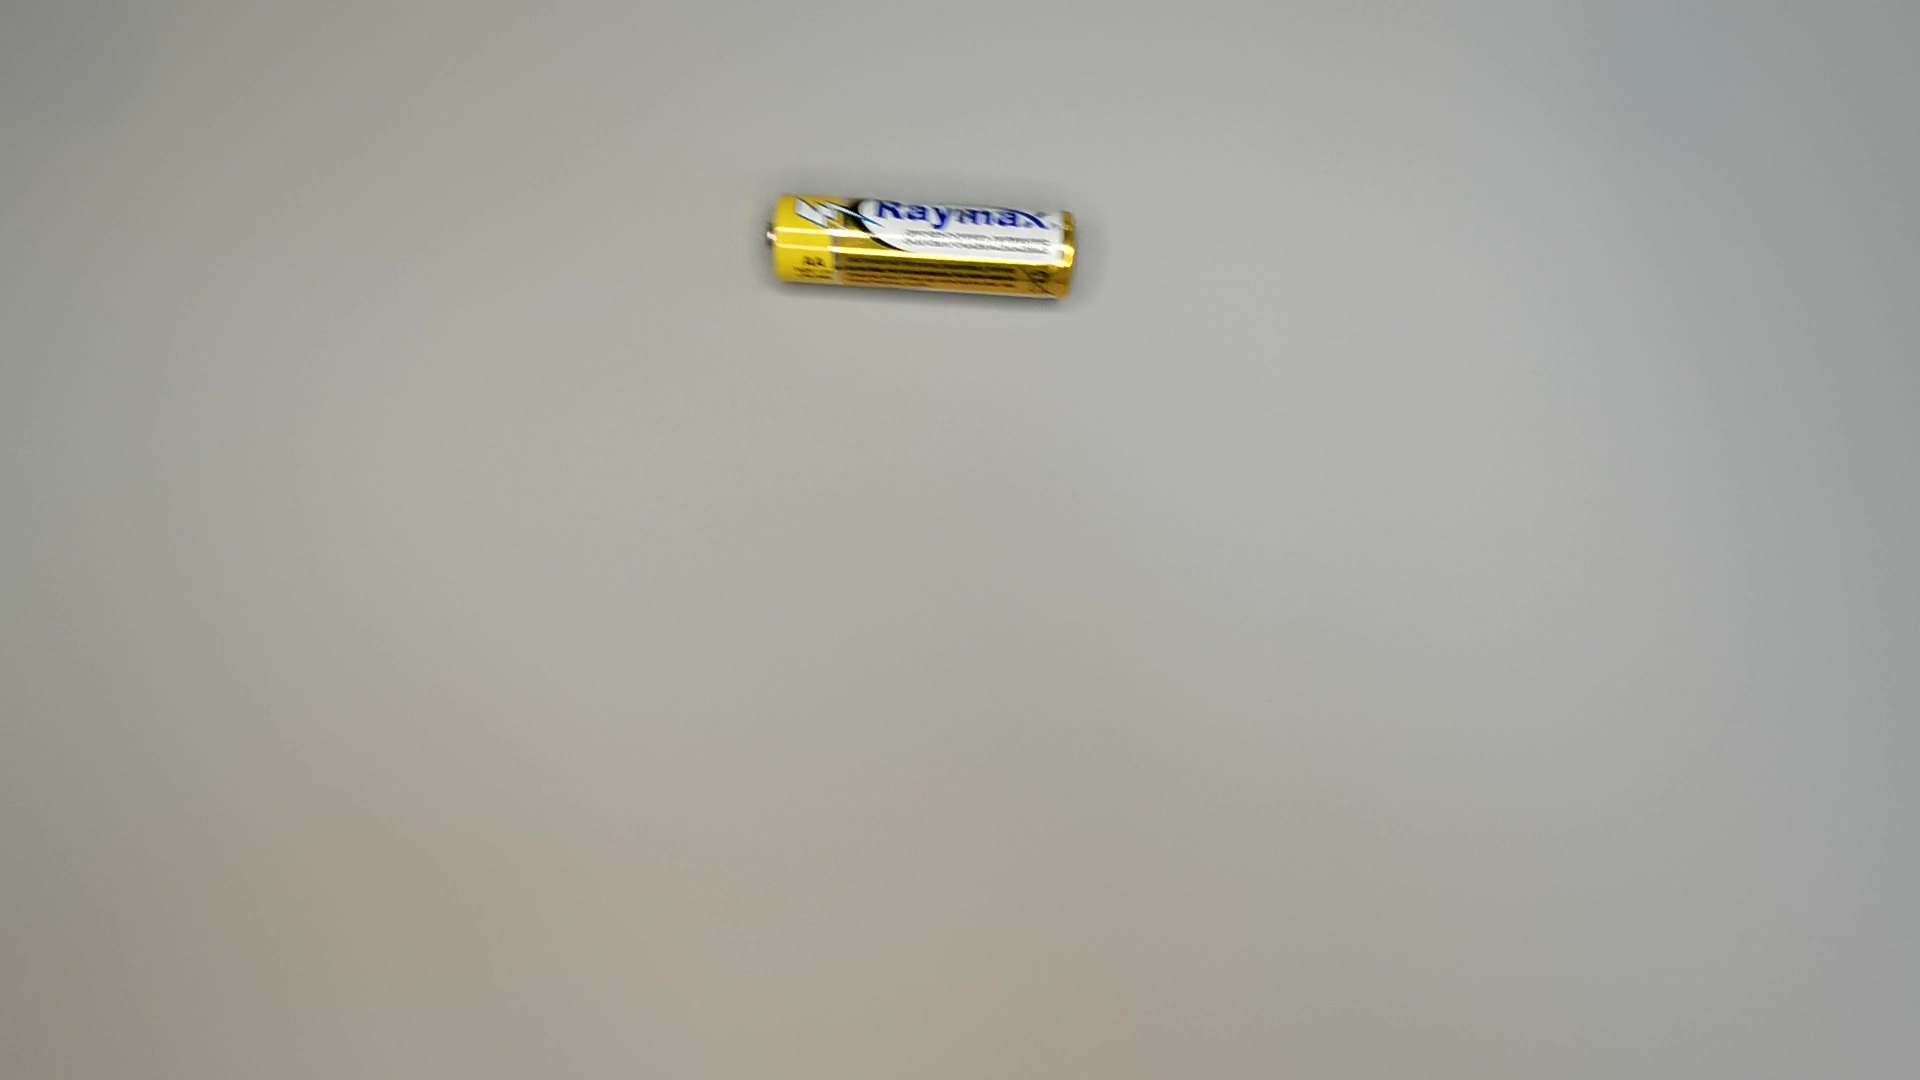battery: (764, 189, 1085, 316)
